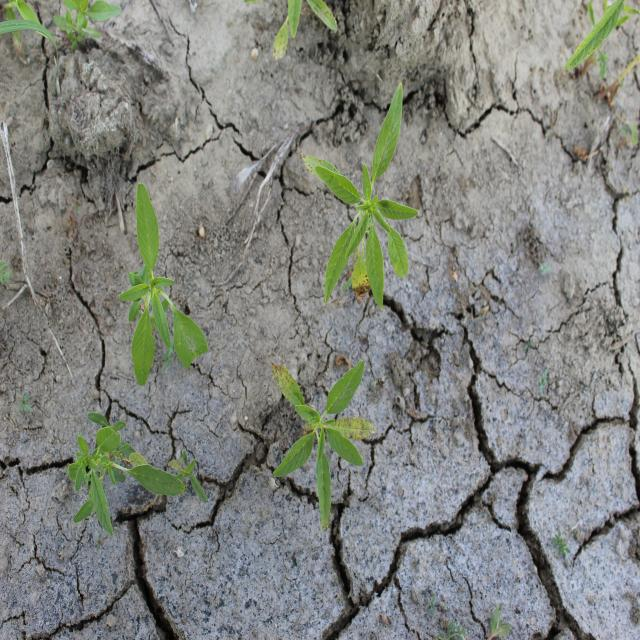Waterhemp: (299, 80, 420, 314), (116, 182, 211, 388), (66, 410, 210, 540), (271, 358, 378, 532), (563, 3, 639, 104), (271, 0, 339, 62)
